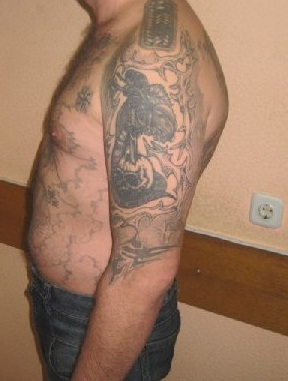tatu4_zvezda: (74, 82, 93, 113)
tatu7_zmeya: (102, 49, 192, 222)
